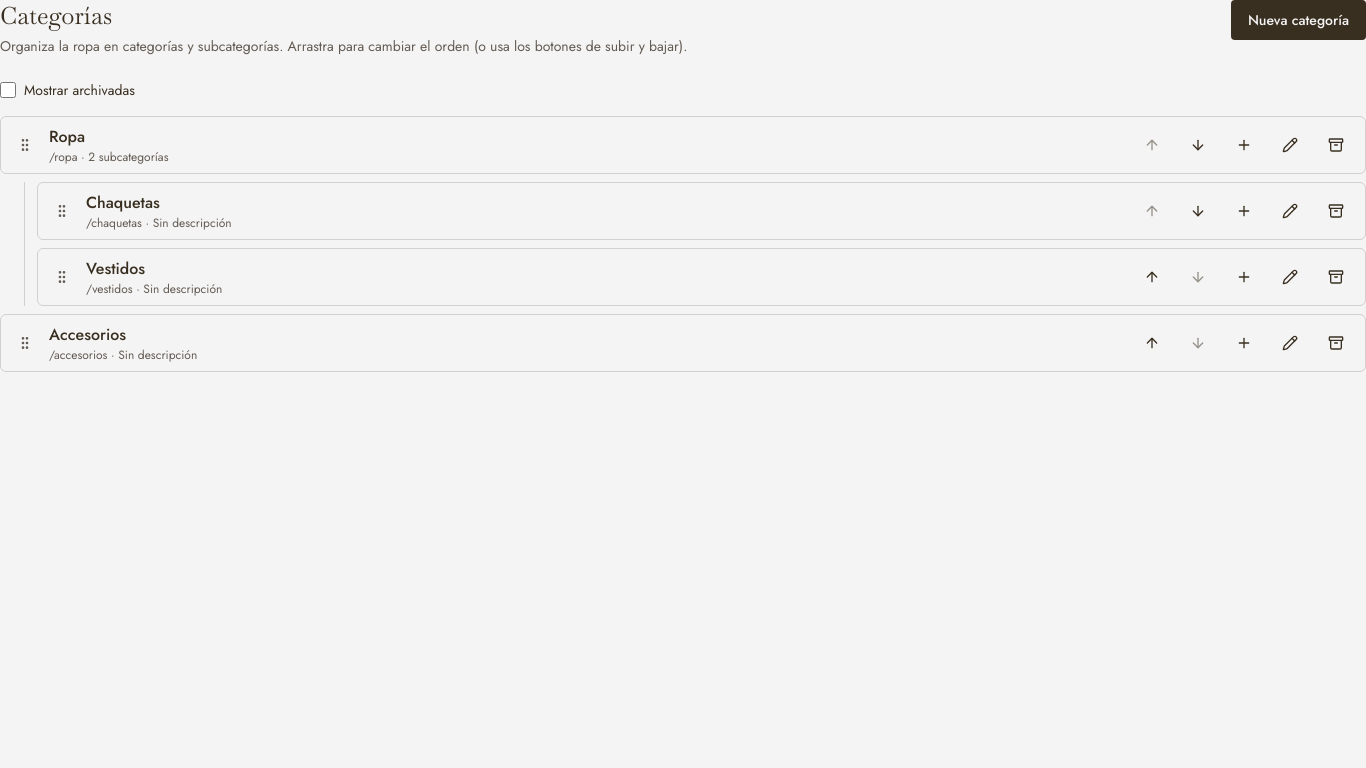
it: CategoriesPage · crear › si se edita el slug a mano, deja de seguir al nombre; 'Generar del nombre' lo recupera
Expected: the text "Ropa" is shown, [49,125,85,148]
Click the button "Nueva categoría" at {"x": 1298, "y": 20}, box [1231,0,1365,40]
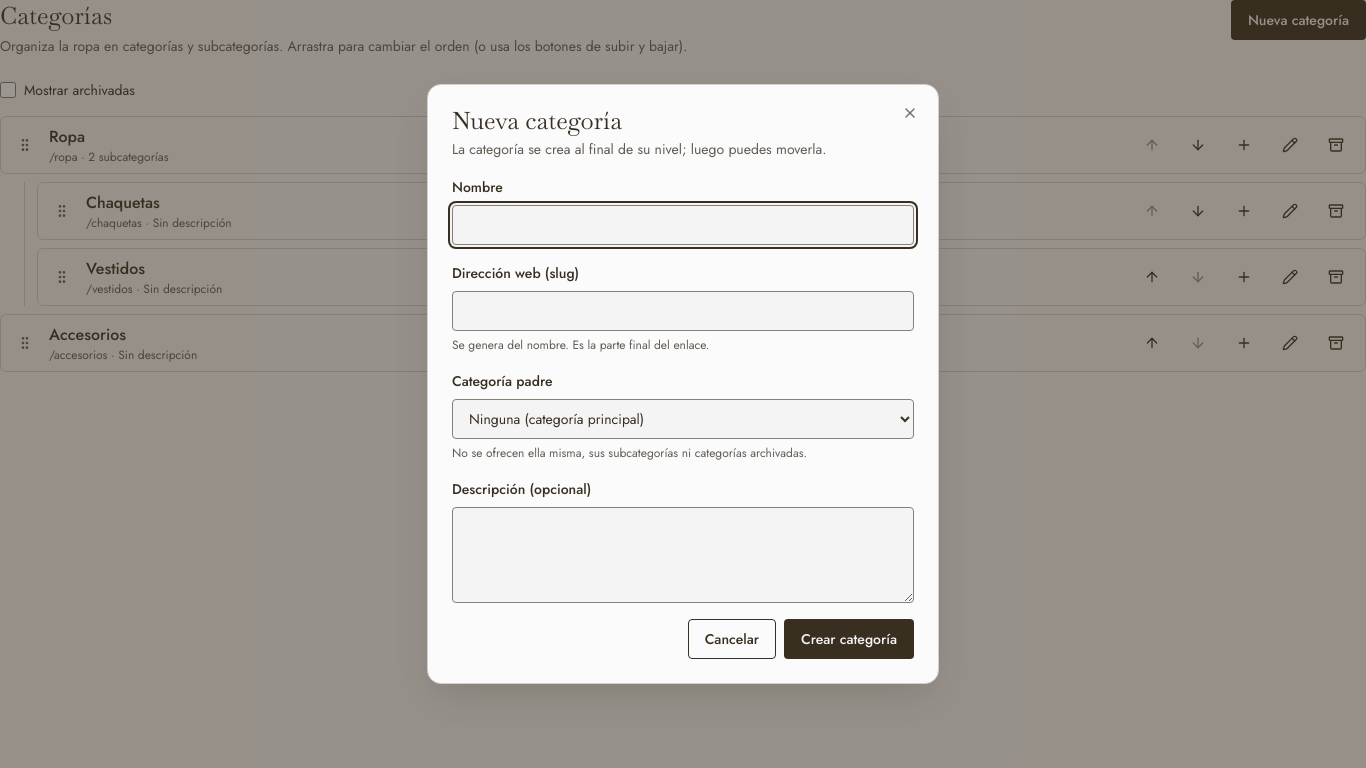
Type "Zapatos" into the field labelled "Nombre" at {"x": 683, "y": 225}, box [452,205,914,245]
Clear the field labelled "Dirección web (slug)" at {"x": 683, "y": 311}, box [452,291,914,331]
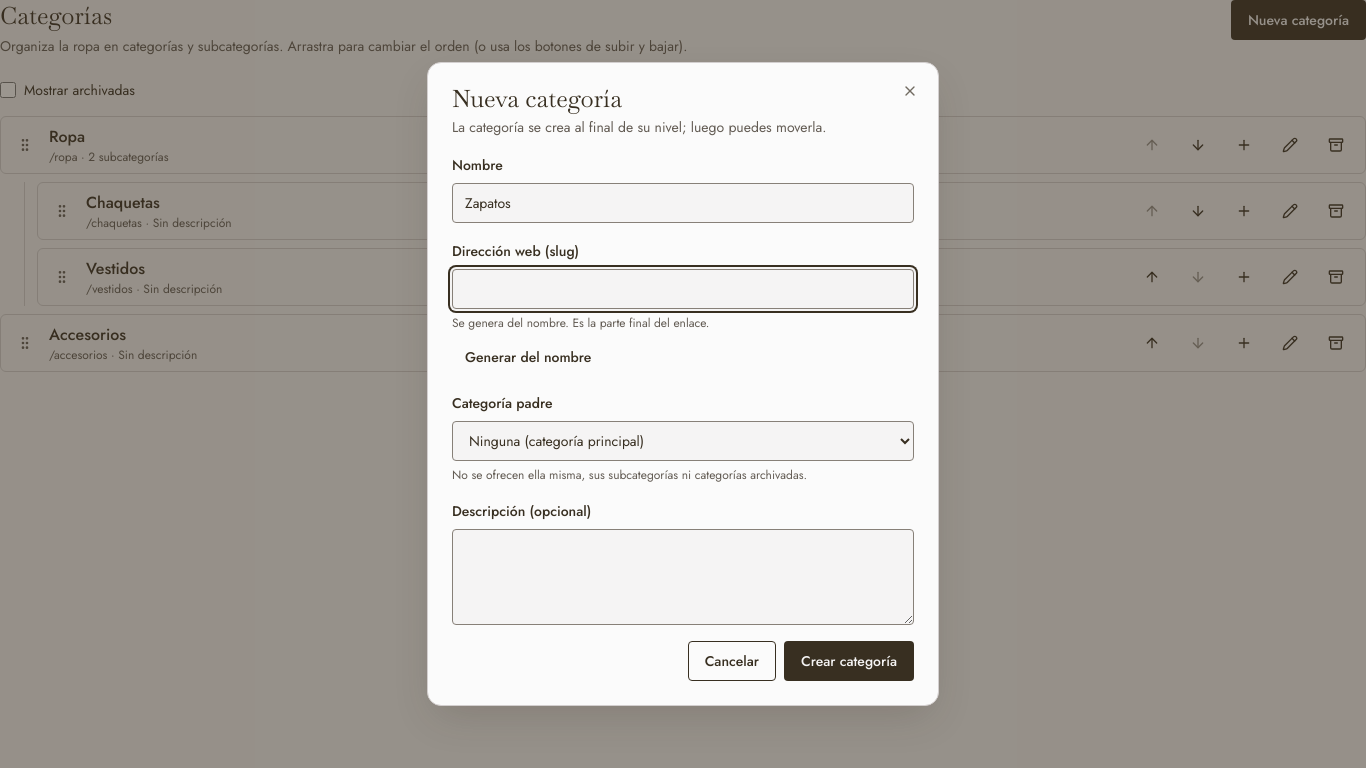
Type "calzado" into the field labelled "Dirección web (slug)" at {"x": 683, "y": 289}, box [452,269,914,309]
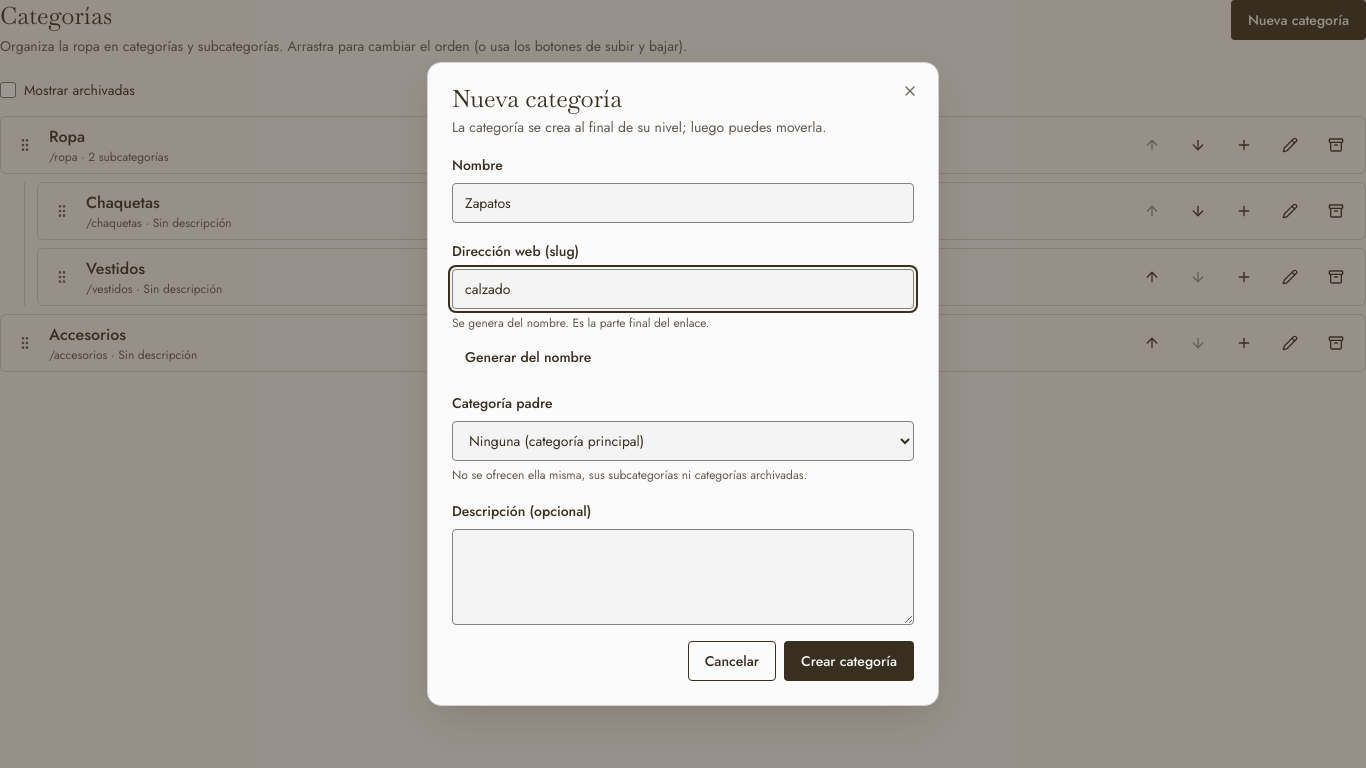
Type " finos" into the field labelled "Nombre" at {"x": 683, "y": 203}, box [452,183,914,223]
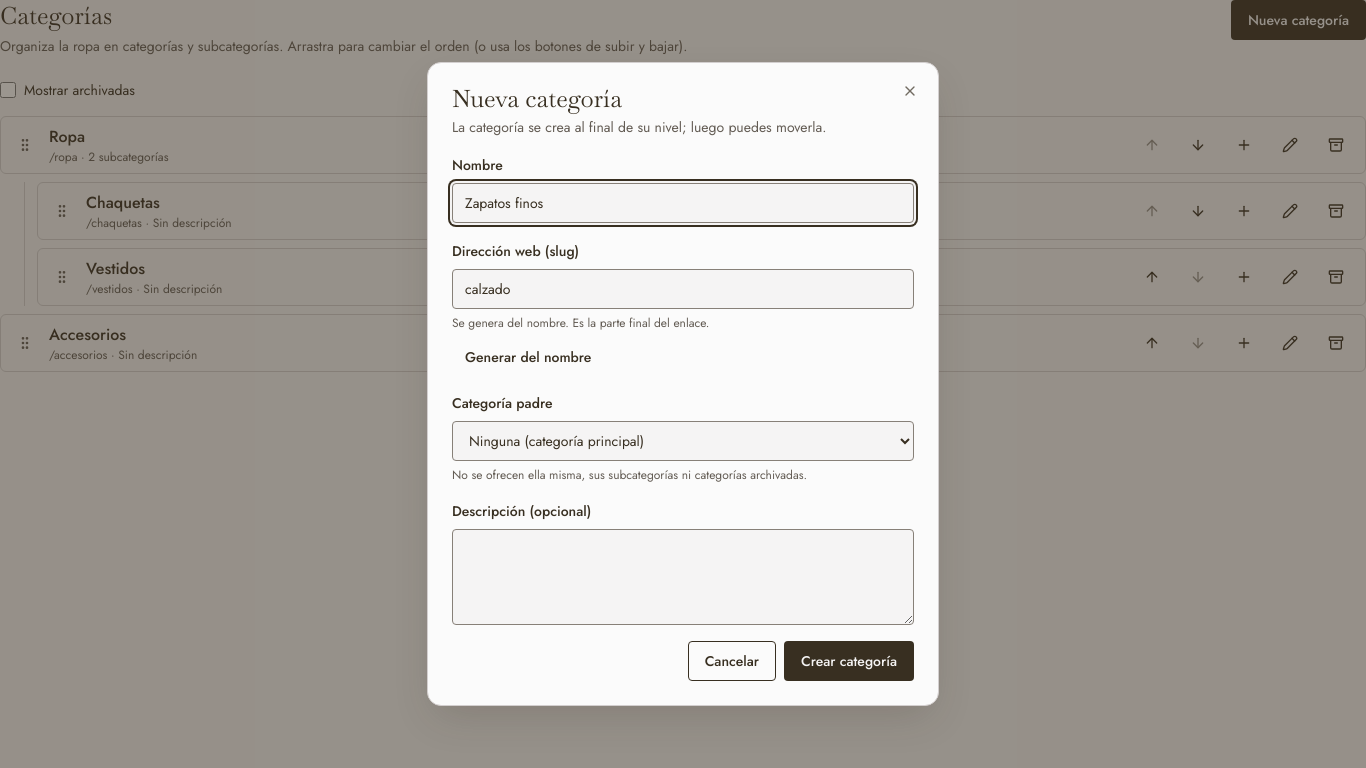
Click the button "Generar del nombre" at {"x": 528, "y": 357}, box [452,339,604,375]
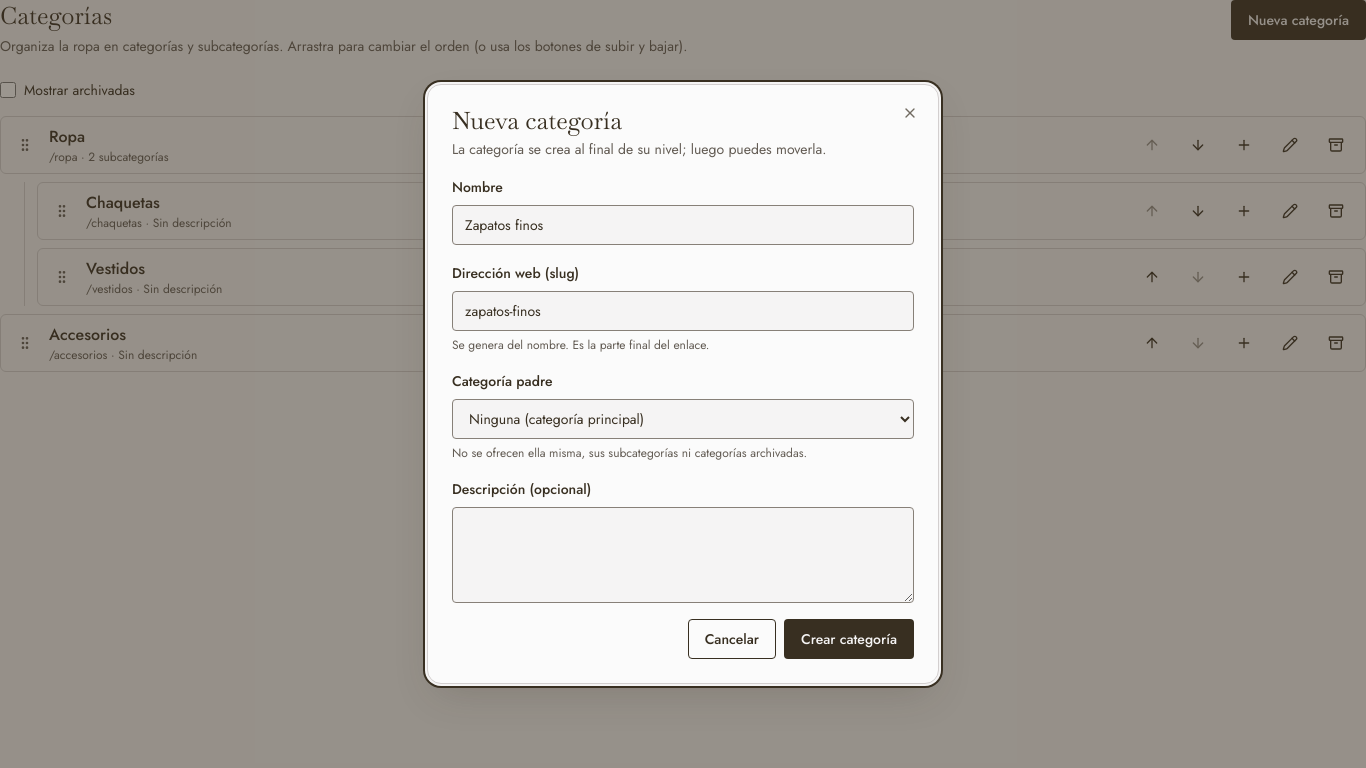
Now the field labelled "Dirección web (slug)" holds "zapatos-finos", box [452,291,914,331]
Type " 2" into the field labelled "Nombre" at {"x": 683, "y": 225}, box [452,205,914,245]
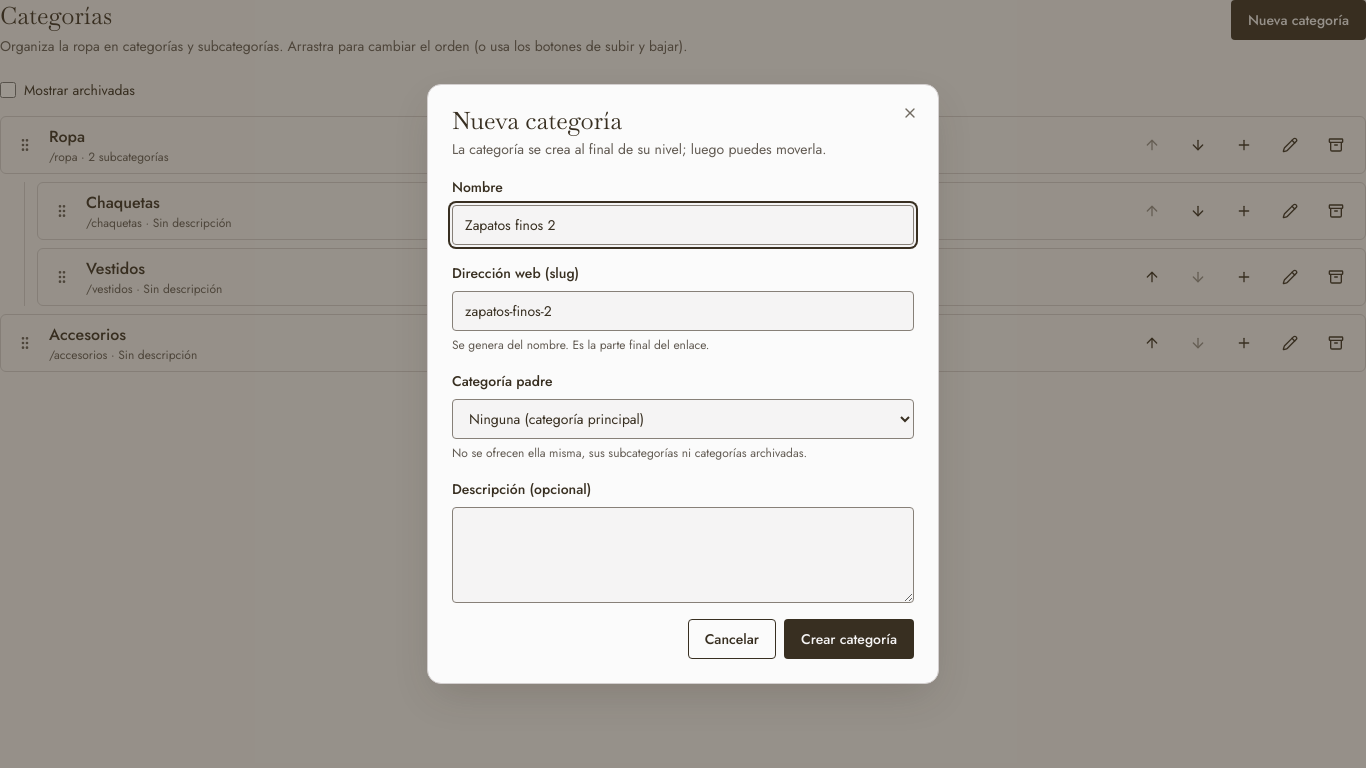
Now the field labelled "Dirección web (slug)" holds "zapatos-finos-2", box [452,291,914,331]
